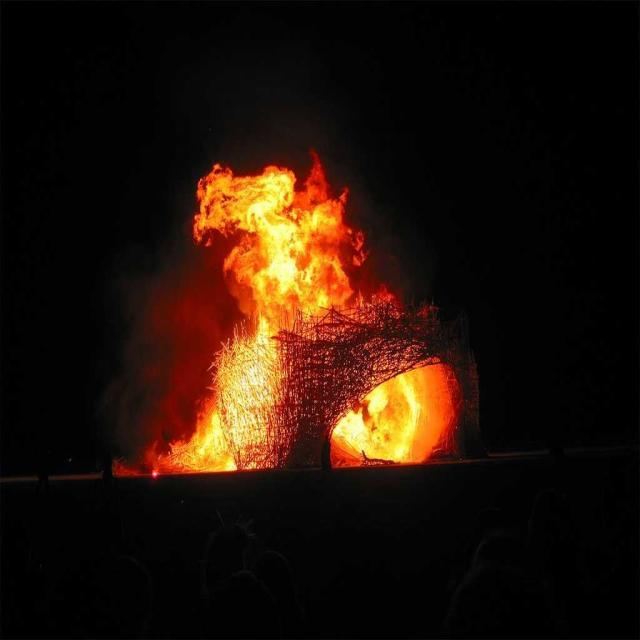Fire: (235, 188, 344, 310), (356, 385, 436, 458), (170, 425, 228, 468)
